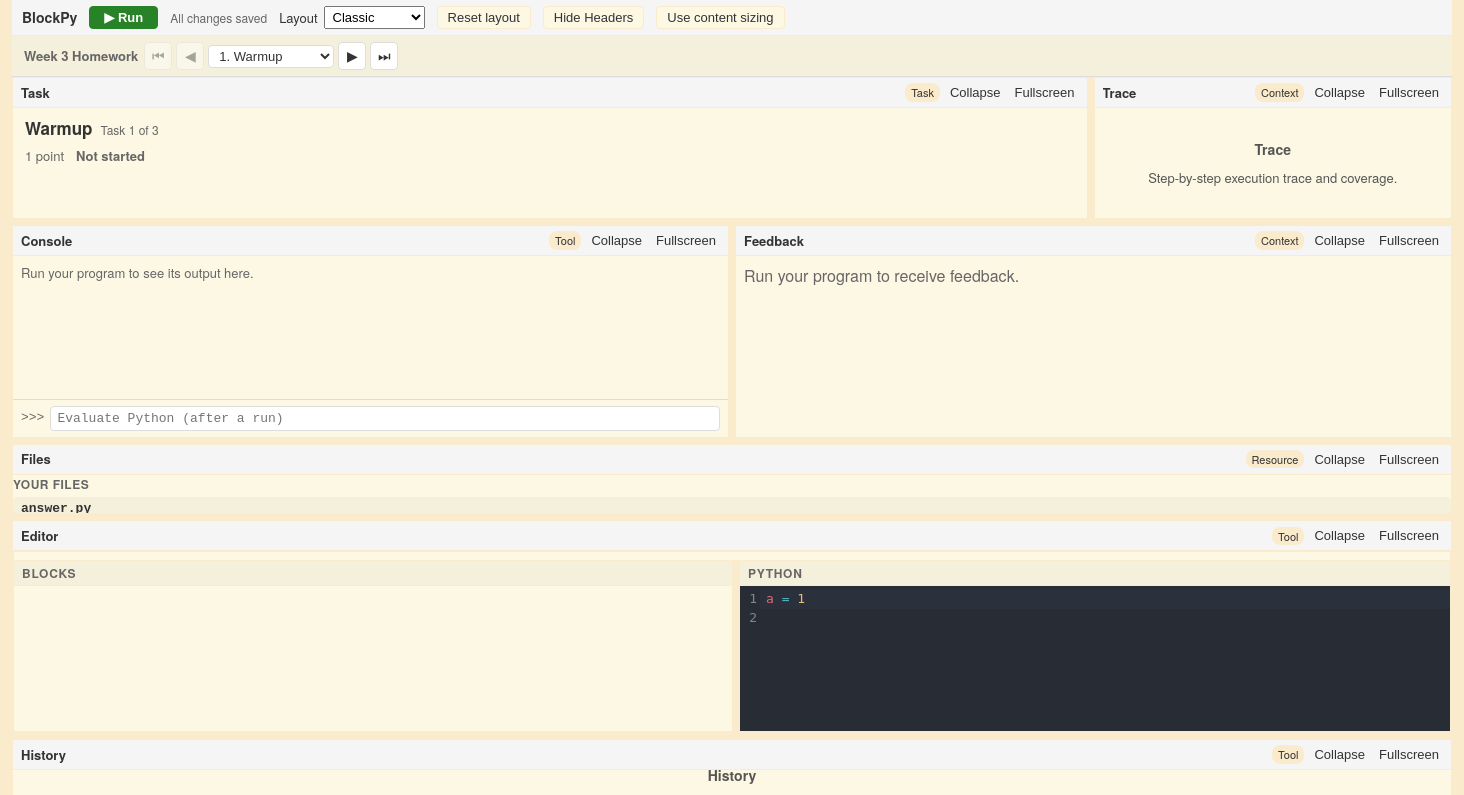
Test: activity navigation › auto-switches the layout preset for the focused task kind
Check: the dropdown labelled "Layout" shows "Classic", box [324,6,425,29]
Select "2. Reading time" in the dropdown named "Jump to task" at (271, 56), box [208,44,334,68]
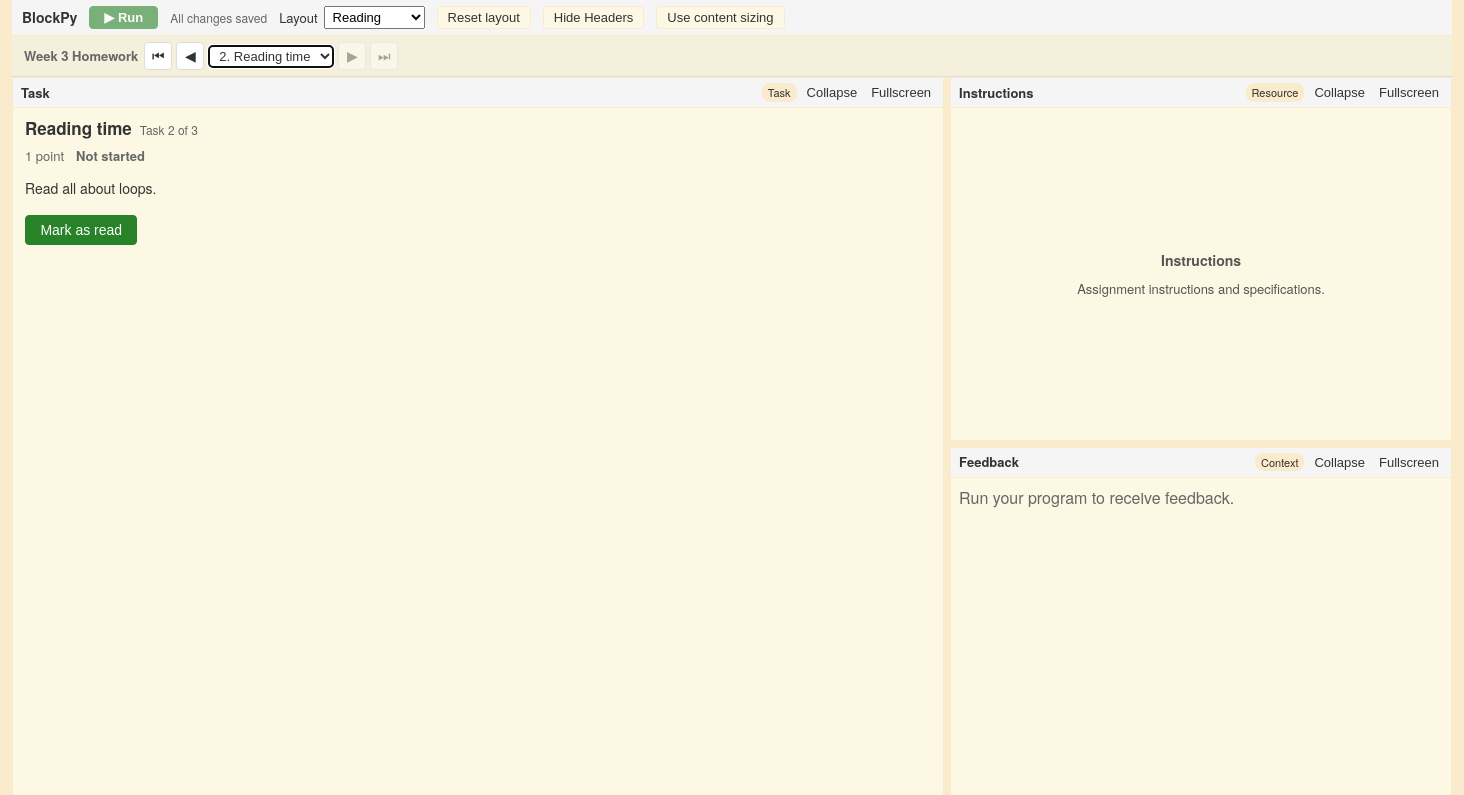
Check: the dropdown labelled "Layout" shows "Reading", box [324,6,425,29]
Select "1. Warmup" in the dropdown named "Jump to task" at (271, 56), box [208,44,334,68]
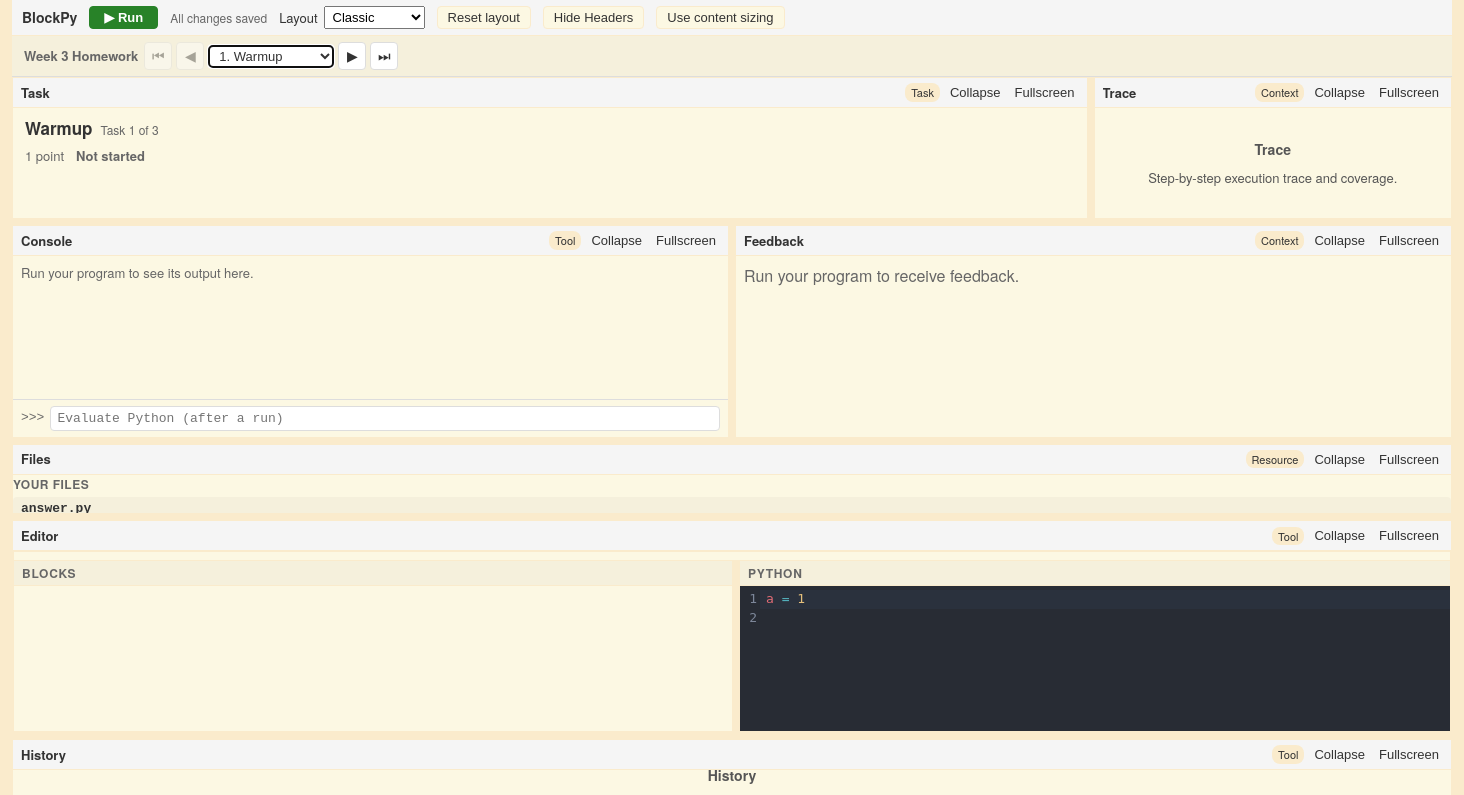
Check: the dropdown labelled "Layout" shows "Classic", box [324,6,425,29]
